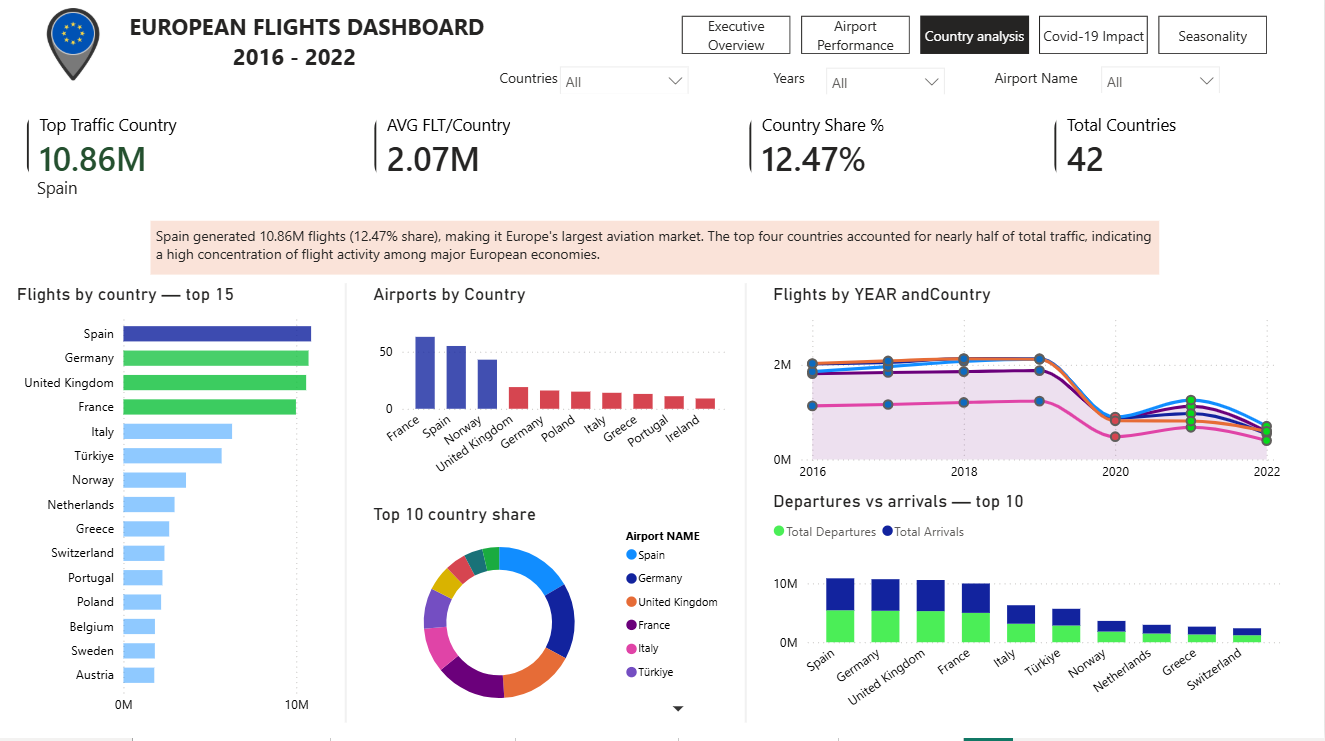

Layout of this report page (visuals, bound fields, positions):
{"tool":"powerbi","page":{"name":"Country analysis","canvas":[1280,720],"ordinal":2},"visuals":[{"type":"cardVisual","fields":{"Data":["All Measures.Highest Traffic"]},"box":[23.3,108.4,240.1,81],"z":0},{"type":"textbox","box":[32.6,172.5,114.6,32.6],"z":1000},{"type":"textbox","box":[122.3,13.5,360.7,92.9],"z":2000},{"type":"image","box":[23.2,13.5,99,74.6],"z":3000},{"type":"slicer","fields":{"Values":["European Flights.STATE_NAME"]},"box":[532.1,61,144.3,36.7],"z":4000},{"type":"textbox","box":[479.5,68.4,68.5,35.5],"z":5000},{"type":"slicer","fields":{"Values":["European Flights.YEAR"]},"box":[779.1,61,144.3,35.5],"z":6000},{"type":"textbox","box":[743.6,68.4,69.7,29.3],"z":7000},{"type":"cardVisual","fields":{"Data":["All Measures.AVG FLT/Country"]},"box":[358.3,109.8,212.3,79.6],"z":8000},{"type":"cardVisual","fields":{"Data":["All Measures.Country Share %"]},"box":[720.2,109.8,212.3,79.6],"z":9000},{"type":"cardVisual","fields":{"Data":["All Measures.Total Countries"]},"box":[1014.6,109.8,212.3,79.6],"z":10000},{"type":"slicer","fields":{"Values":["Custom_calender.Year"]},"box":[789,62.8,134.5,35.7],"z":11000},{"type":"slicer","fields":{"Values":["European Flights.APT_ICAO"]},"box":[1053.9,61.5,134.5,35.7],"z":12000},{"type":"textbox","box":[956.4,68.3,97.4,35.7],"z":13000},{"type":"textbox","box":[147.2,220.8,973.6,51.9],"z":14000},{"type":"clusteredBarChart","title":"Flights by country — top 15","fields":{"Y":["All Measures.Total Flights"],"Category":["European Flights.STATE_NAME"]},"box":[13.3,281.1,375.2,424.7],"z":15000},{"type":"donutChart","title":"Top 10 country share","fields":{"Y":["All Measures.Total Flights"],"Category":["European Flights.STATE_NAME"]},"box":[356.8,494,352.7,211.3],"z":16000},{"type":"columnChart","title":"Departures vs arrivals — top 10","fields":{"Y":["All Measures.Total Departures","All Measures.Total Arrivals"],"Category":["European Flights.STATE_NAME"]},"box":[743.2,481.4,499.5,224.4],"z":17000},{"type":"clusteredColumnChart","title":"Airports by Country","fields":{"Category":["European Flights.STATE_NAME"],"Y":["All Measures.Total Airports"]},"box":[356.8,281.3,352.7,200.3],"z":18000},{"type":"shape","box":[314.2,281.3,43.9,424],"z":19000},{"type":"shape","box":[699.8,281.3,43.9,424],"z":20000},{"type":"lineChart","title":" Flights by YEAR andCountry","fields":{"Y":["All Measures.Total Flights"],"Category":["European Flights.YEAR"],"Series":["European Flights.STATE_NAME"]},"box":[743.2,281.1,499.5,200.3],"z":21000},{"type":"pageNavigator","box":[659.9,22.9,567,37.4],"z":22000},{"type":"actionButton","box":[658.7,22.9,106.2,39.8],"z":23000},{"type":"actionButton","box":[778.2,20.5,103.8,39.8],"z":24000},{"type":"actionButton","box":[946.8,20.6,140,39.8],"z":25000},{"type":"actionButton","box":[1086.8,20.6,140,39.8],"z":26000},{"type":"actionButton","box":[891.6,22.9,103.8,39.8],"z":27000},{"type":"actionButton","box":[1002.6,20.5,103.8,39.8],"z":28000},{"type":"actionButton","box":[1120.8,20.5,103.8,39.8],"z":29000}]}

Visuals, with their boxes in screenshot pixels (x1, y1, x2, y2), scaled from the page's 1280x720 canvas onto the 1325x741 screenshot:
cardVisual - All Measures.Highest Traffic: 24, 112, 273, 195
textbox: 34, 178, 152, 211
textbox: 127, 14, 500, 110
image: 24, 14, 126, 91
slicer - European Flights.STATE_NAME: 551, 63, 700, 101
textbox: 496, 70, 567, 107
slicer - European Flights.YEAR: 806, 63, 956, 99
textbox: 770, 70, 842, 101
cardVisual - All Measures.AVG FLT/Country: 371, 113, 591, 195
cardVisual - All Measures.Country Share %: 746, 113, 965, 195
cardVisual - All Measures.Total Countries: 1050, 113, 1270, 195
slicer - Custom_calender.Year: 817, 65, 956, 101
slicer - European Flights.APT_ICAO: 1091, 63, 1230, 100
textbox: 990, 70, 1091, 107
textbox: 152, 227, 1160, 281
"Flights by country — top 15" clusteredBarChart: 14, 289, 402, 726
"Top 10 country share" donutChart: 369, 508, 734, 726
"Departures vs arrivals — top 10" columnChart: 769, 495, 1286, 726
"Airports by Country" clusteredColumnChart: 369, 290, 734, 496
shape: 325, 290, 371, 726
shape: 724, 290, 770, 726
" Flights by YEAR andCountry" lineChart: 769, 289, 1286, 495
pageNavigator: 683, 24, 1270, 62
actionButton: 682, 24, 792, 65
actionButton: 806, 21, 913, 62
actionButton: 980, 21, 1125, 62
actionButton: 1125, 21, 1270, 62
actionButton: 923, 24, 1030, 65
actionButton: 1038, 21, 1145, 62
actionButton: 1160, 21, 1268, 62
